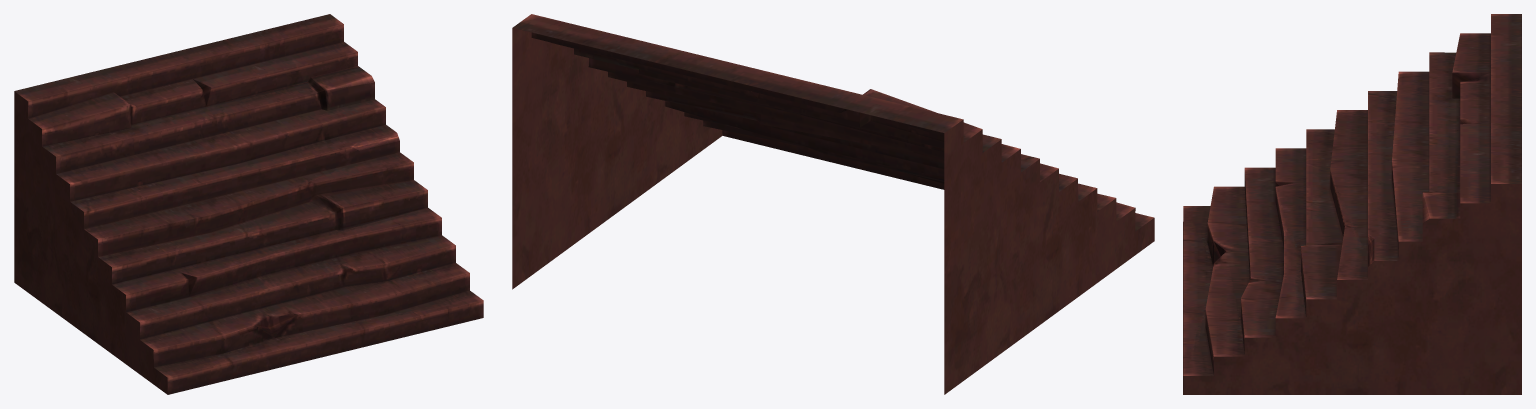
The model's file is lava_stair_half_01.fbx.
3 renders of one model, left to right at view 1: azimuth 30°, elevation 25°; view 2: azimuth 150°, elevation 25°; view 3: azimuth 270°, elevation 25°, orthographic. The views are drawn at different scales.
Parts seen in each view (by area): view 1: lava_stair_half_01-0; view 2: lava_stair_half_01-0; view 3: lava_stair_half_01-0.
Part boxes in pixels (x1,y1,x2,y2): lava_stair_half_01-0: [14, 14, 483, 394]; lava_stair_half_01-0: [512, 14, 1154, 394]; lava_stair_half_01-0: [1183, 14, 1521, 394].
Bounding box in the file's own units: 4.75 × 2.75 × 4.
